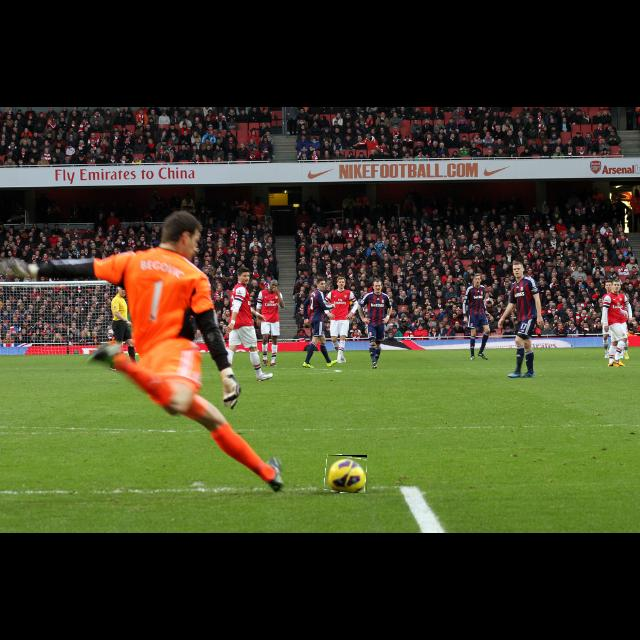Football: (325, 455, 367, 493)
